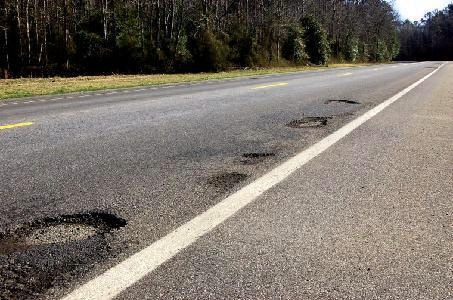pothole: (14, 209, 125, 246), (203, 169, 246, 190), (284, 114, 330, 129), (238, 150, 276, 164), (322, 96, 358, 105)
